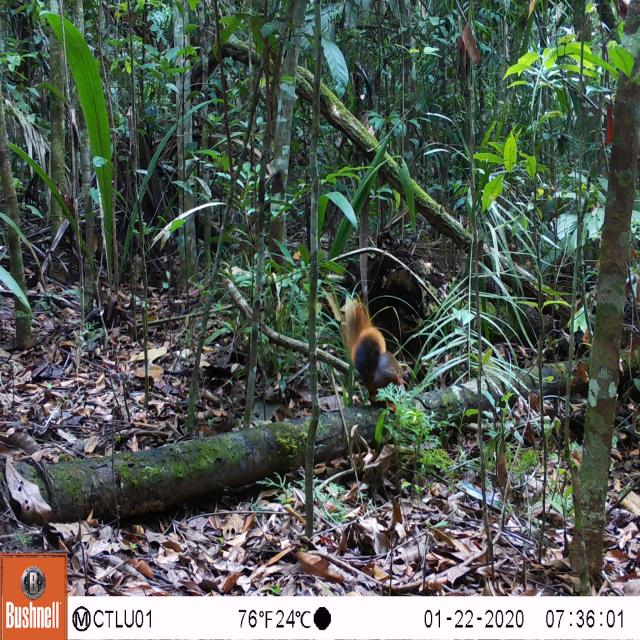Squirrel: (335, 297, 412, 405)
